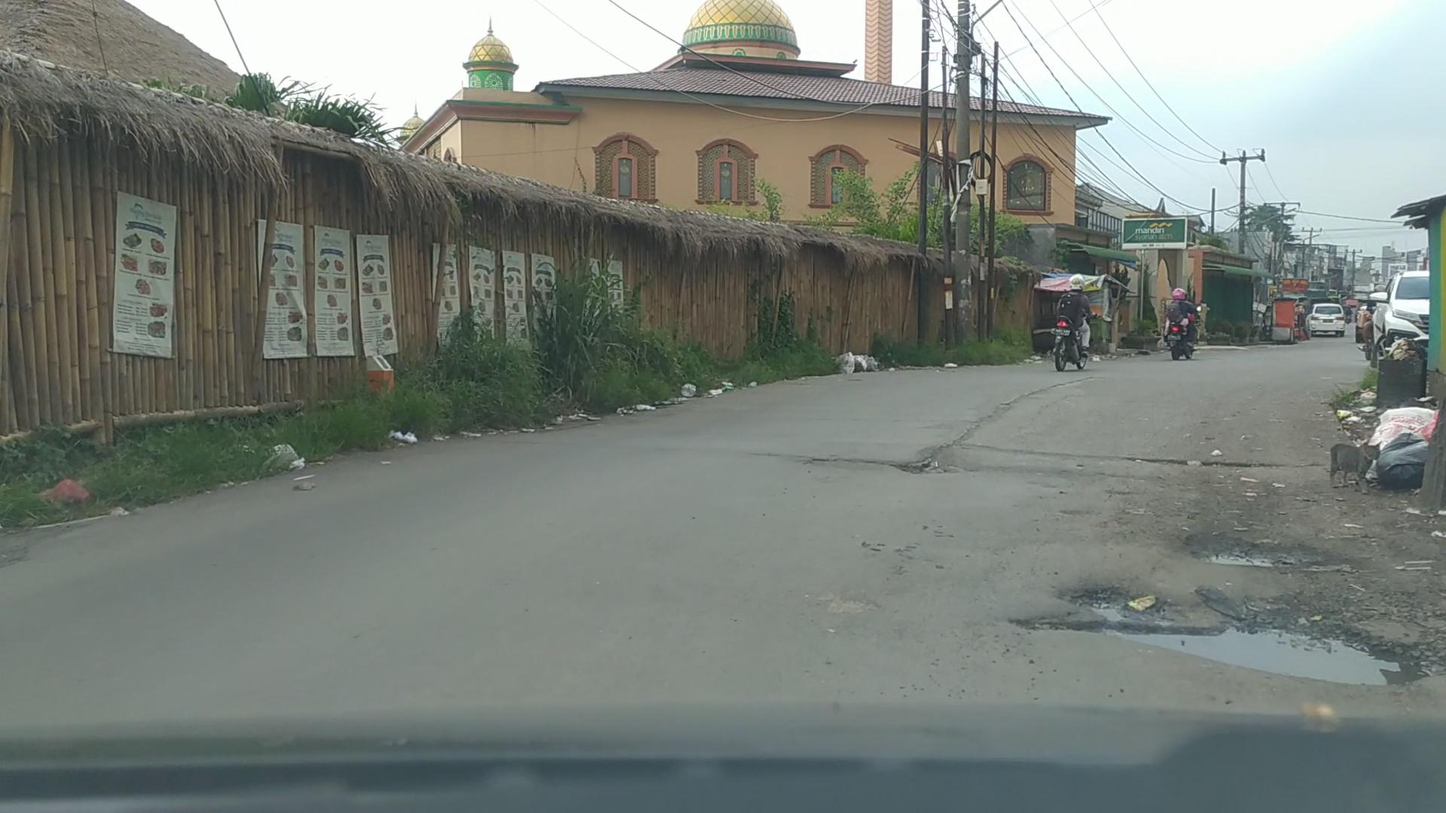pothole: (1026, 588, 1431, 685), (1184, 531, 1338, 567), (826, 453, 965, 477), (1125, 455, 1303, 470), (1064, 585, 1135, 617)
